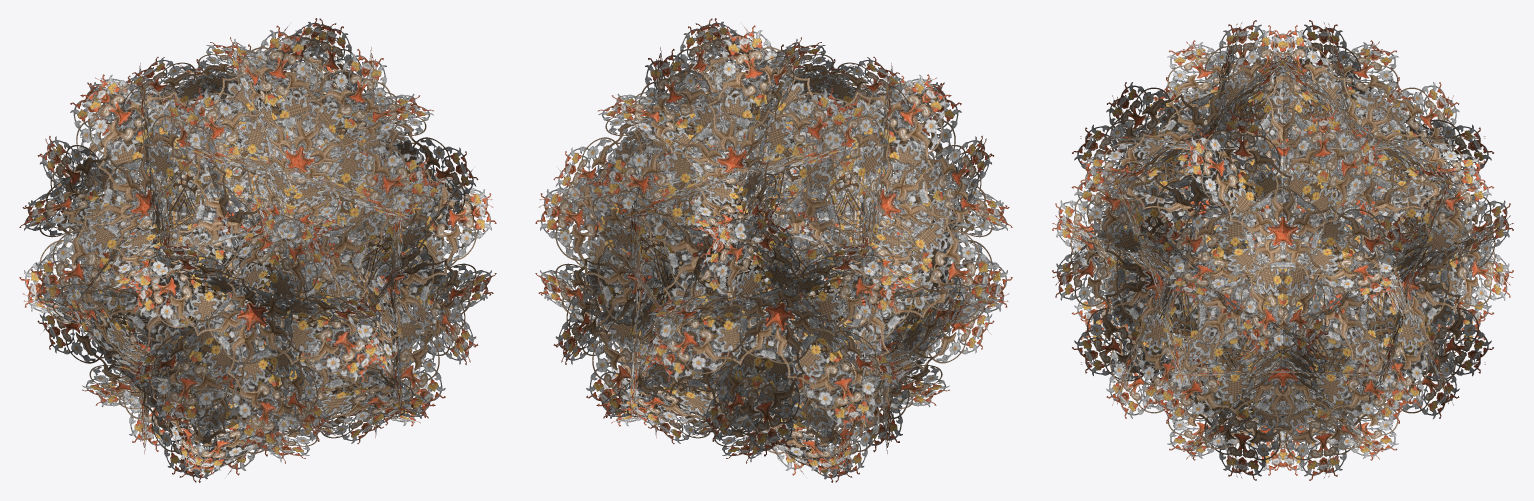
File: GreatDodecicosahedron11.gltf
The picture shows the model from 3 angles, left to right: view 1: azimuth 30°, elevation 25°; view 2: azimuth 150°, elevation 25°; view 3: azimuth 270°, elevation 25°; orthographic projection. The views are drawn at different scales.
Parts seen in each view (by area): view 1: GreatDodecicosahedron; view 2: GreatDodecicosahedron; view 3: GreatDodecicosahedron.
Boxes of the visible parts, left/top/right/bottom form: GreatDodecicosahedron: left=19, top=18, right=496, bottom=482; GreatDodecicosahedron: left=535, top=18, right=1012, bottom=482; GreatDodecicosahedron: left=1052, top=20, right=1513, bottom=480.
Size of the model in its own units: 2.24 by 2.24 by 2.24.
Materials: 1 (1 with a texture image).
